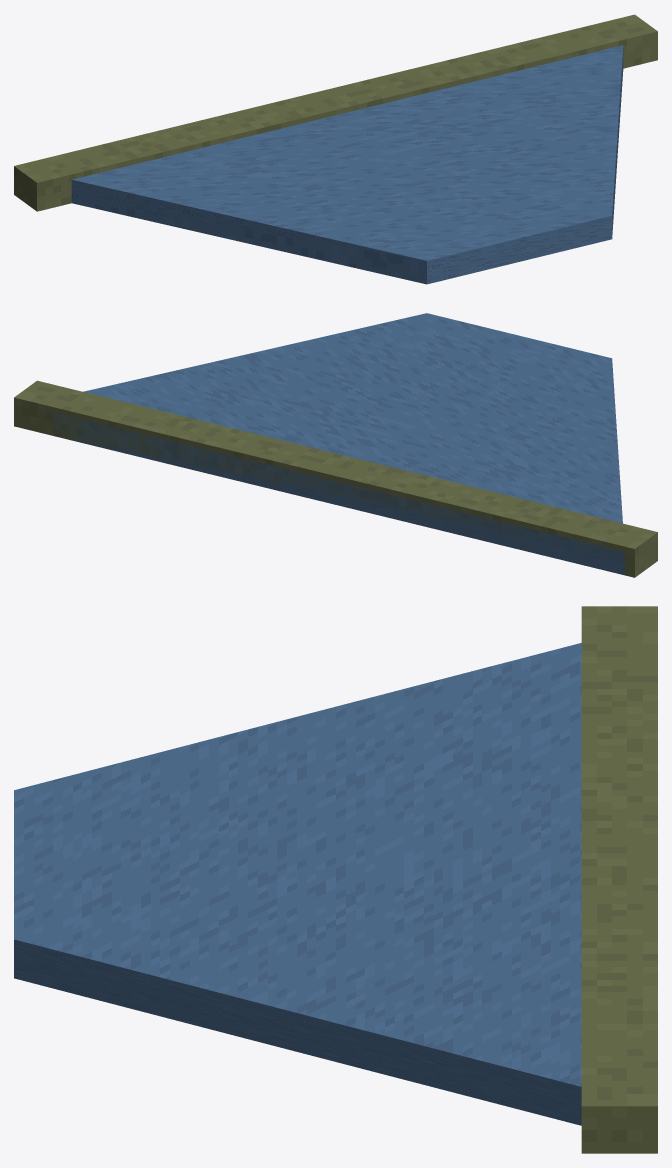
File: swim_briefs.glb
3 views of the same model, one above another, from view 1: azimuth 30°, elevation 25°; view 2: azimuth 150°, elevation 25°; view 3: azimuth 270°, elevation 25° (orthographic). The views are drawn at different scales.
Parts seen in each view (by area): view 1: block_briefs panel, block_elastic band; view 2: block_briefs panel, block_elastic band; view 3: block_briefs panel, block_elastic band.
Part boxes in pixels (box(x1,y1,x2,y2)): block_briefs panel: box(71, 45, 623, 284); block_elastic band: box(14, 14, 657, 211); block_briefs panel: box(24, 313, 624, 575); block_elastic band: box(14, 380, 657, 577); block_briefs panel: box(14, 643, 581, 1125); block_elastic band: box(581, 606, 657, 1153).
Size of the model in its own units: 0.248 by 0.011 by 0.135.
Materials: 1 (1 with a texture image).
